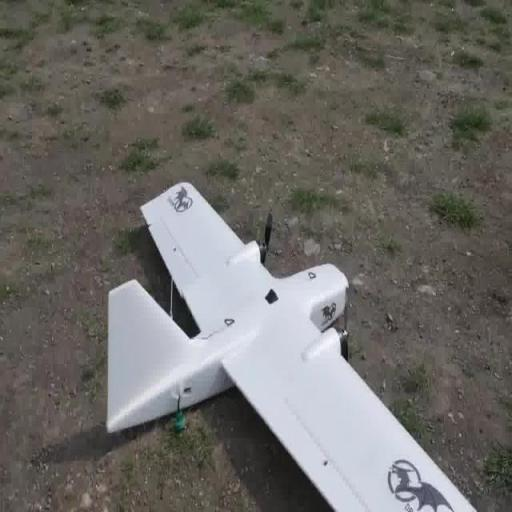uav: (106, 166, 482, 512)
